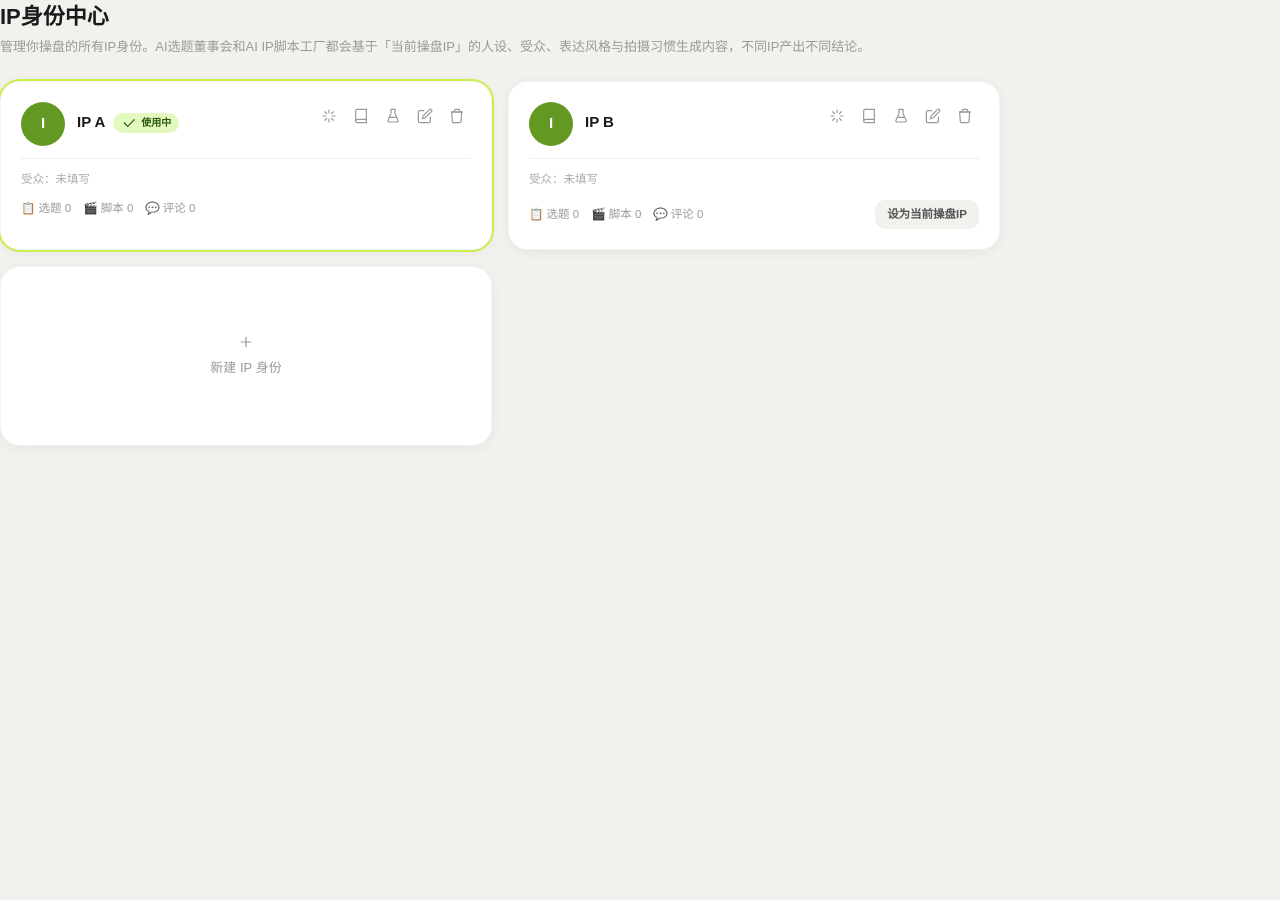
Test case: 浏览器拒绝写入时页面明确提示保存失败且不展示假成功画像
Click the button titled "口播逐字稿样本库" in the row of "使用中" at (361,116), box [347, 102, 375, 130]
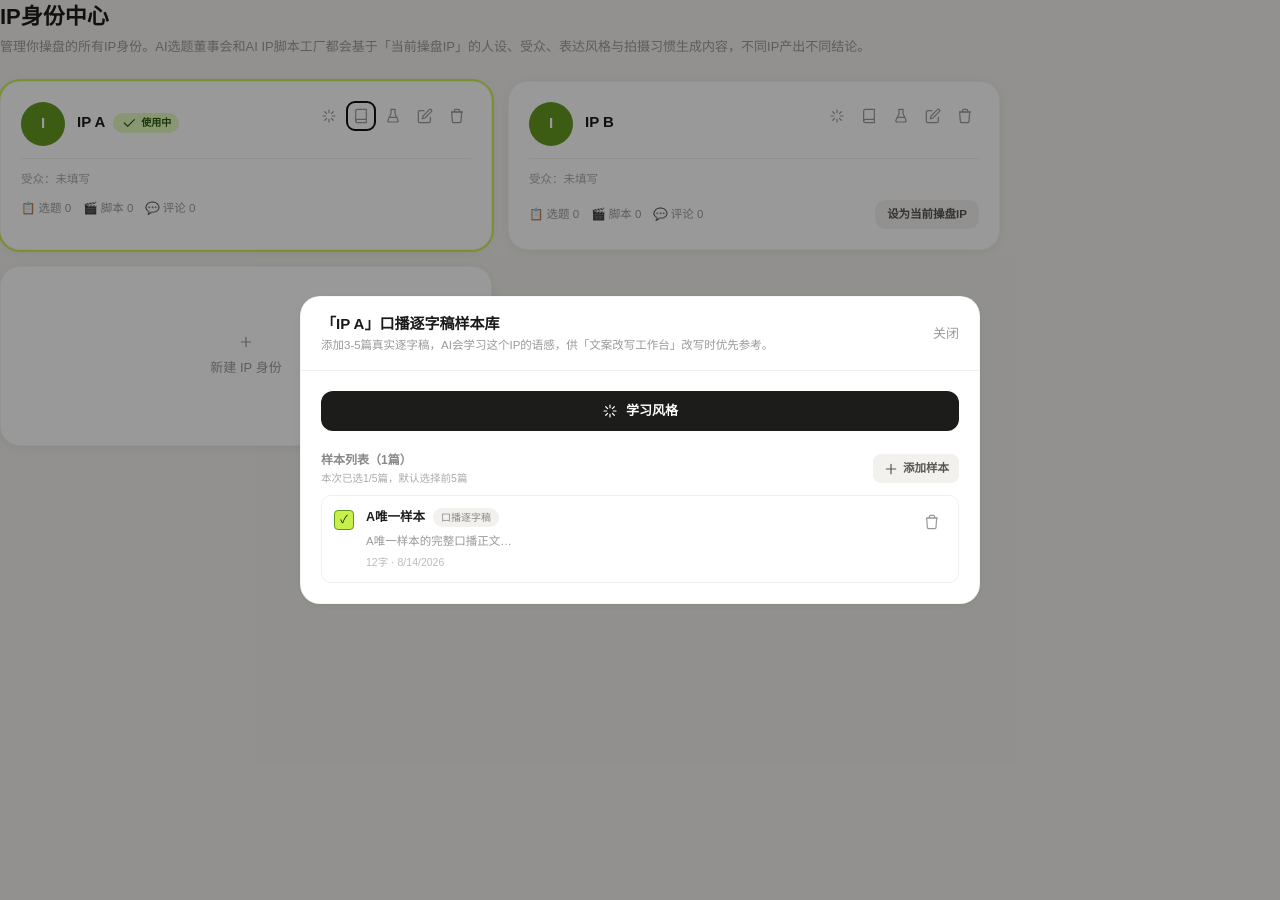
Click the button "学习风格" at (640,411), box [321, 391, 959, 431]
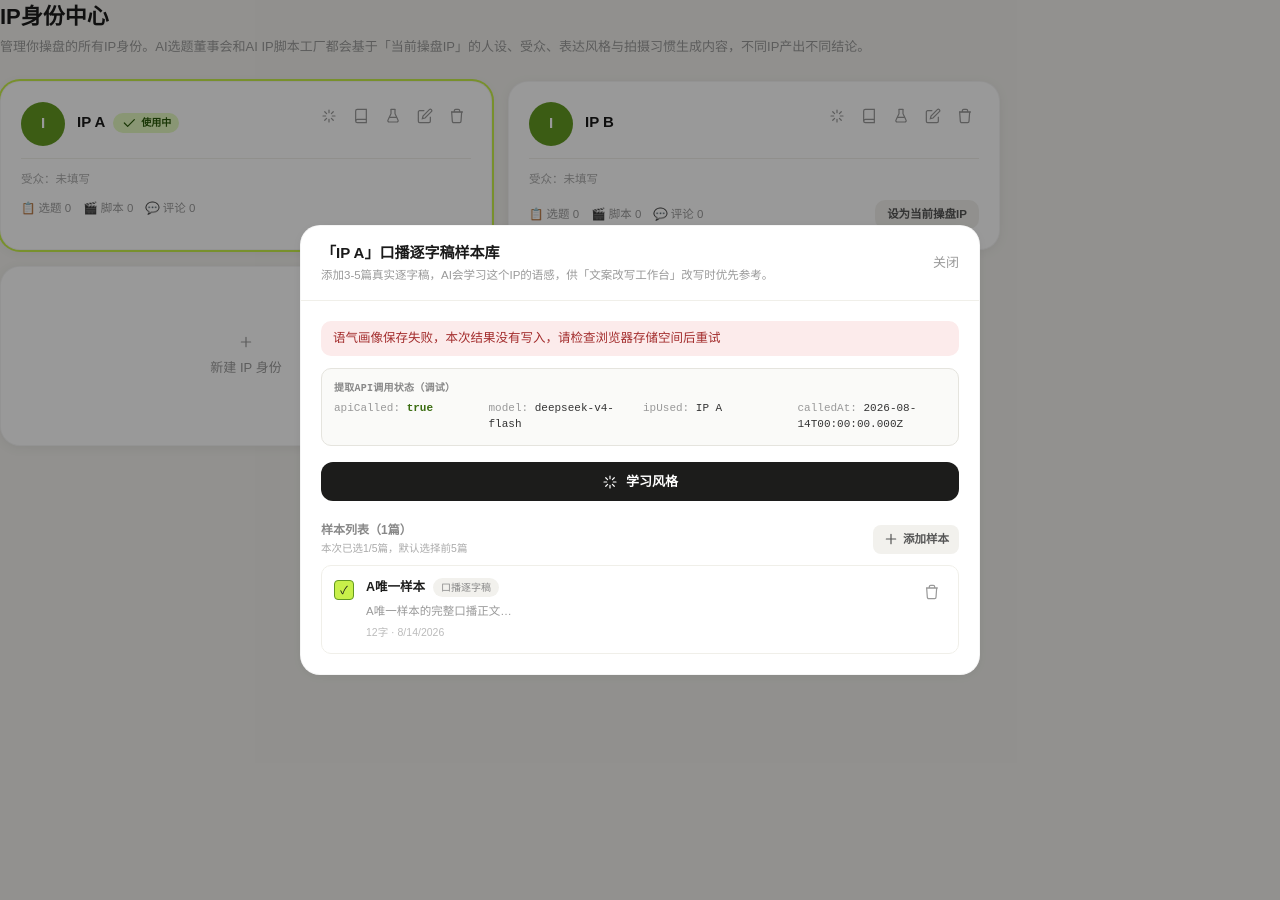
Check: the text "语气画像保存失败，本次结果没有写入，请检查浏览器存储空间后重试" is shown, box [321, 321, 959, 356]
